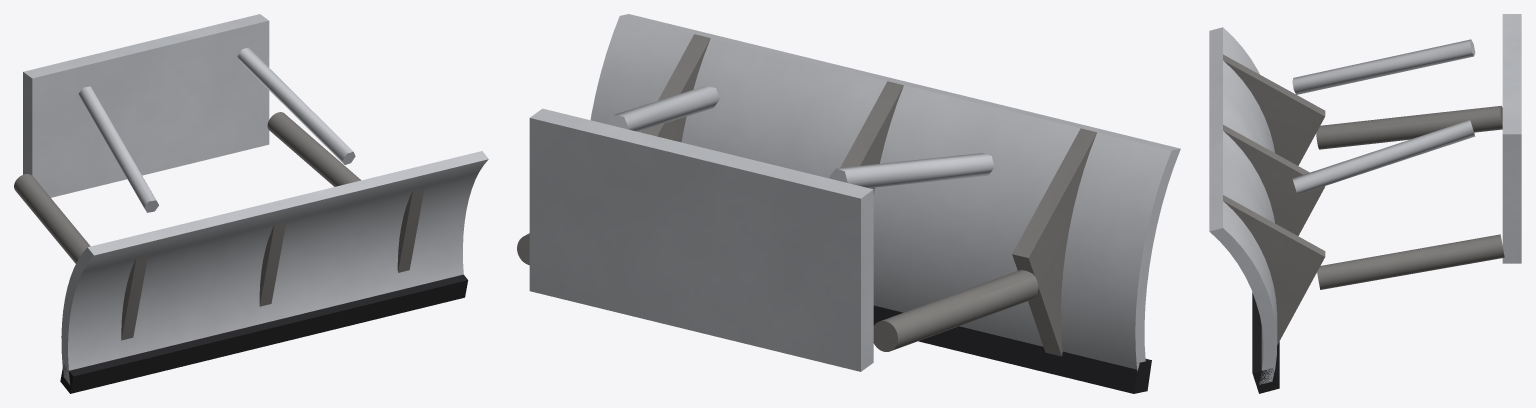
File: rover32_dozer_scoop_s_lowered.glb
3 renders of one model, left to right at view 1: azimuth 30°, elevation 25°; view 2: azimuth 150°, elevation 25°; view 3: azimuth 270°, elevation 25°, orthographic. The views are drawn at different scales.
Parts seen in each view (by area): view 1: blade, mount_plate, blade_edge, arm_rams, arm_push, blade_ribs; view 2: blade, mount_plate, blade_ribs, arm_rams, arm_push, blade_edge; view 3: blade_ribs, blade, arm_push, arm_rams, mount_plate, blade_edge.
Boxes of the visible parts, bbox=[...] form: blade: bbox=[61, 151, 488, 384]; mount_plate: bbox=[23, 14, 269, 197]; blade_edge: bbox=[60, 274, 468, 393]; arm_rams: bbox=[78, 47, 355, 212]; arm_push: bbox=[14, 112, 360, 263]; blade_ribs: bbox=[121, 188, 424, 340]; blade: bbox=[590, 14, 1180, 371]; mount_plate: bbox=[529, 108, 873, 371]; blade_ribs: bbox=[640, 34, 1096, 356]; arm_rams: bbox=[607, 86, 994, 188]; arm_push: bbox=[517, 233, 1038, 351]; blade_edge: bbox=[873, 305, 1151, 393]; blade_ribs: bbox=[1223, 54, 1325, 345]; blade: bbox=[1209, 27, 1277, 384]; arm_push: bbox=[1316, 105, 1504, 289]; arm_rams: bbox=[1292, 39, 1475, 194]; mount_plate: bbox=[1502, 14, 1521, 263]; blade_edge: bbox=[1252, 292, 1279, 393].
Size of the model in its own units: 1 by 0.5098 by 0.6576.
Materials: 3 (2 with a texture image).
